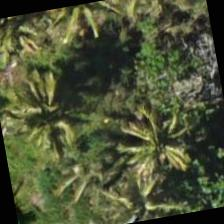Kelapa_Sawit: (90, 96, 194, 200), (0, 66, 92, 170), (0, 13, 38, 76)
